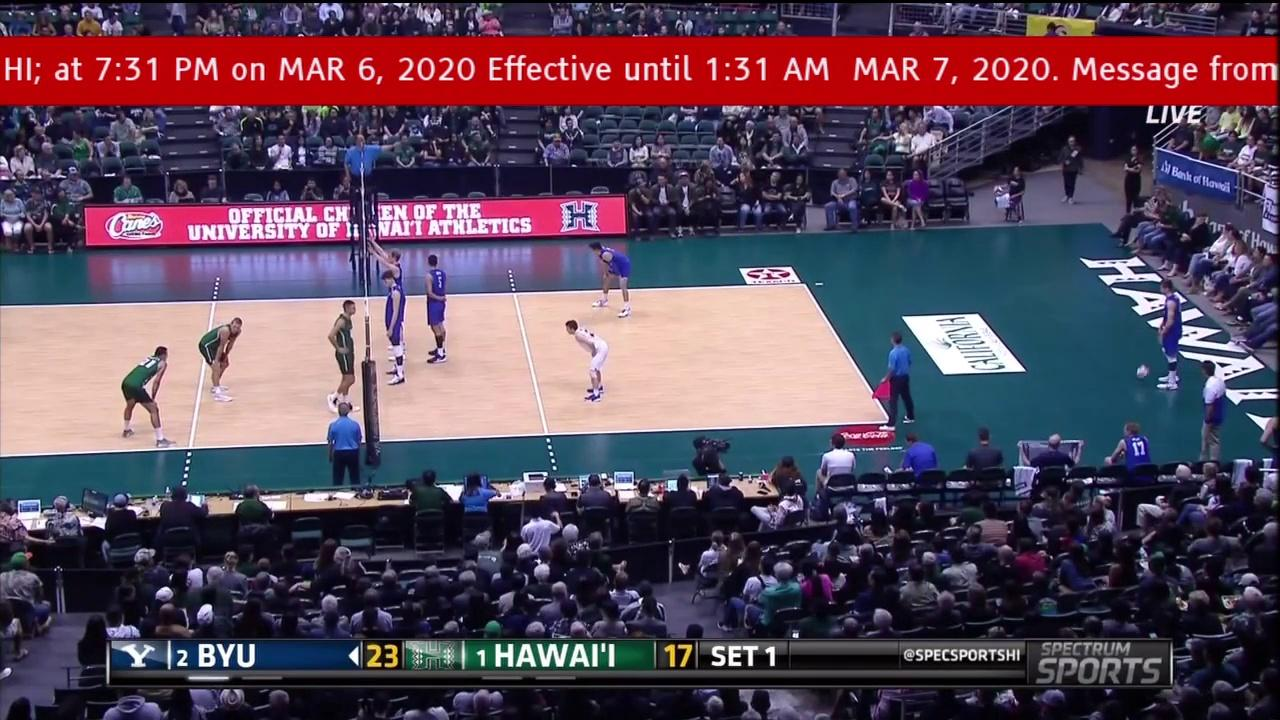player: (1139, 275, 1186, 394), (117, 346, 168, 440), (197, 316, 242, 402), (326, 300, 359, 413), (564, 320, 607, 401), (379, 248, 409, 361), (424, 254, 452, 362), (380, 271, 406, 384), (592, 244, 629, 317)
refree: (339, 130, 384, 239), (876, 326, 924, 427), (323, 400, 366, 485)
